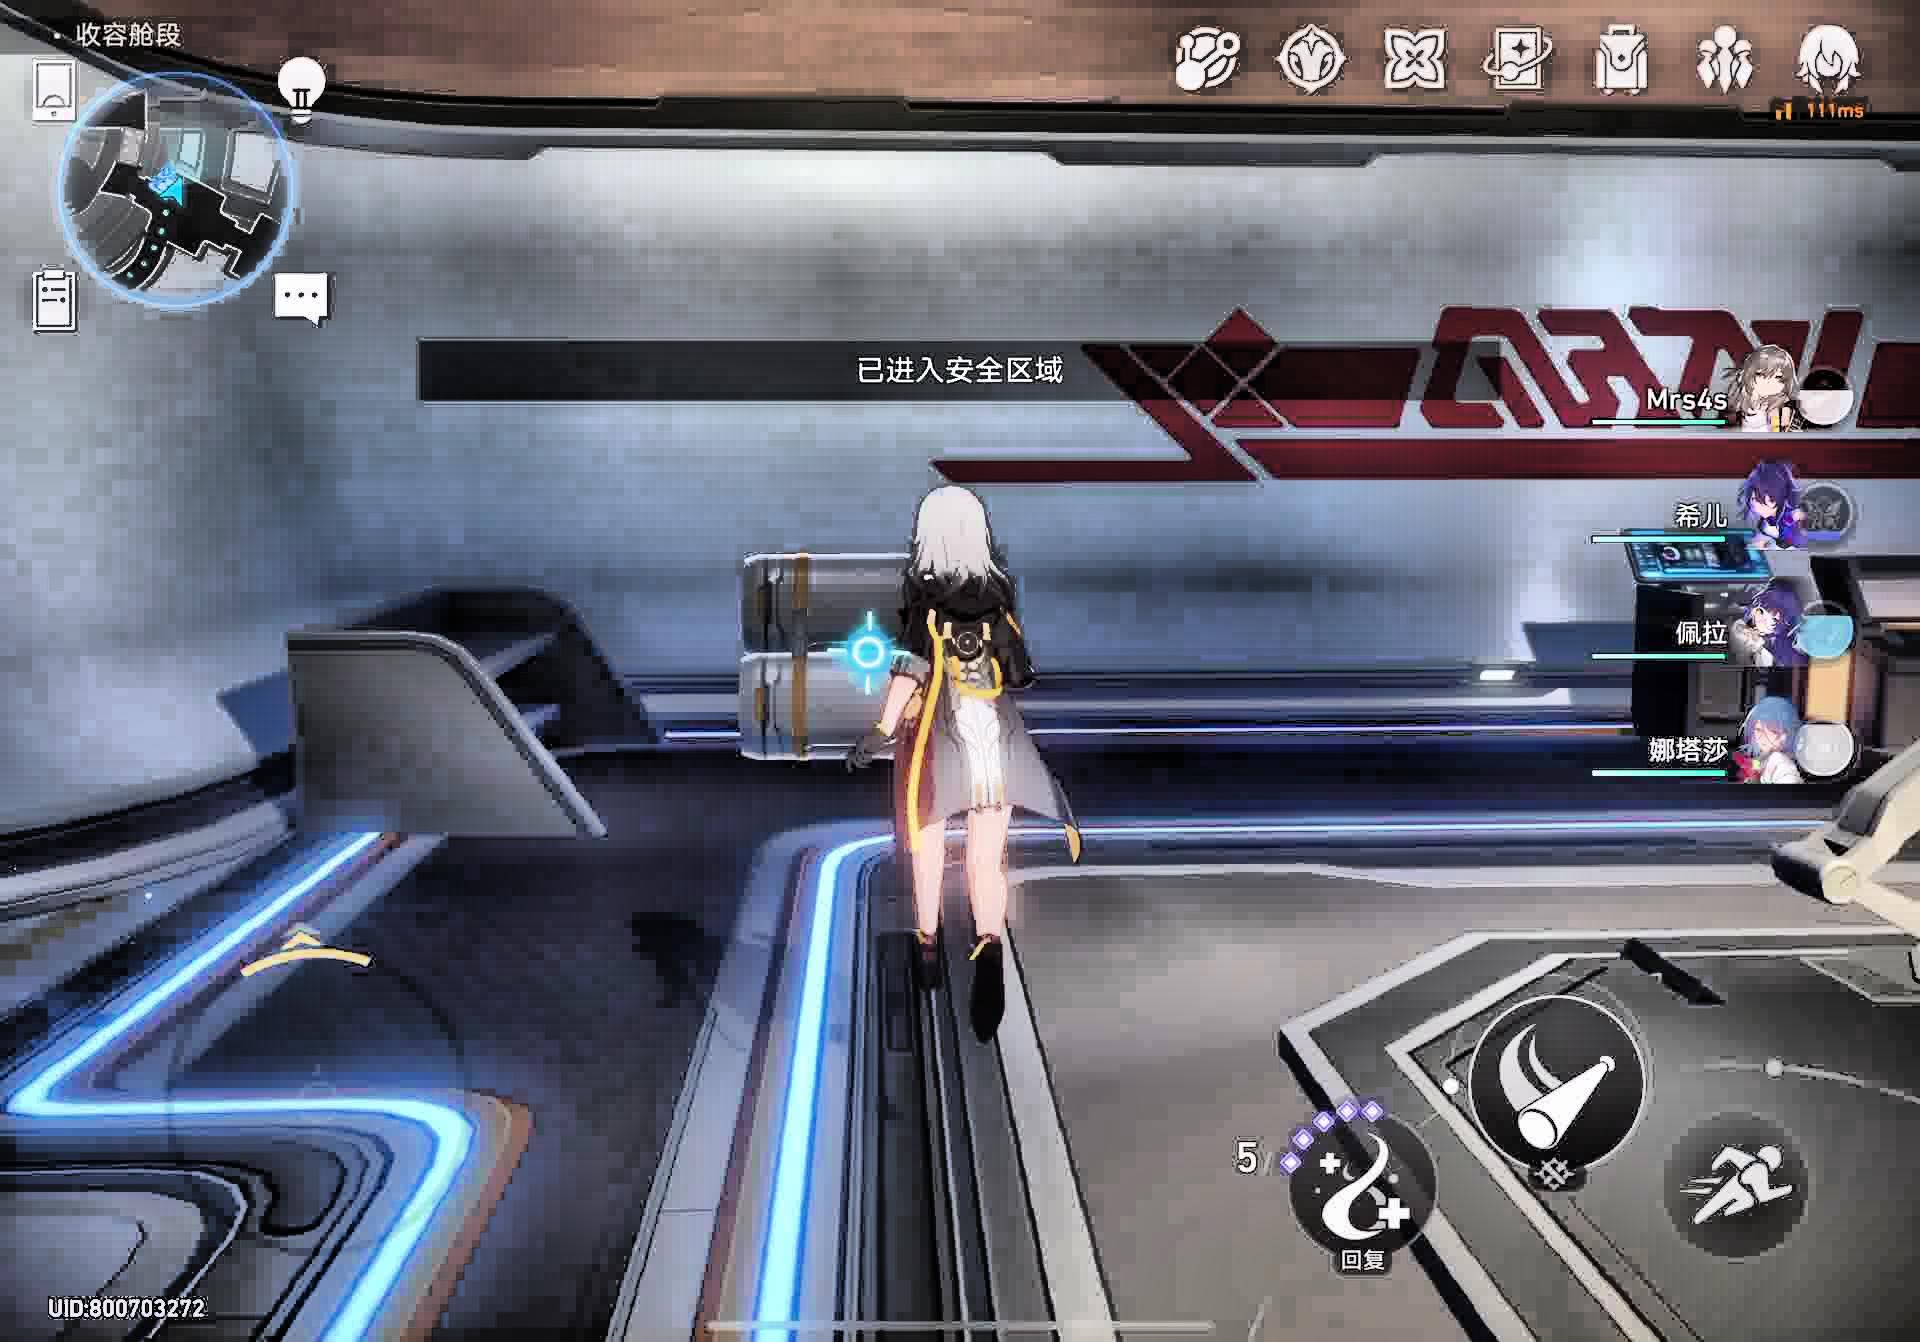Box: (732, 548, 985, 767)
Self: (846, 459, 1099, 1058)
